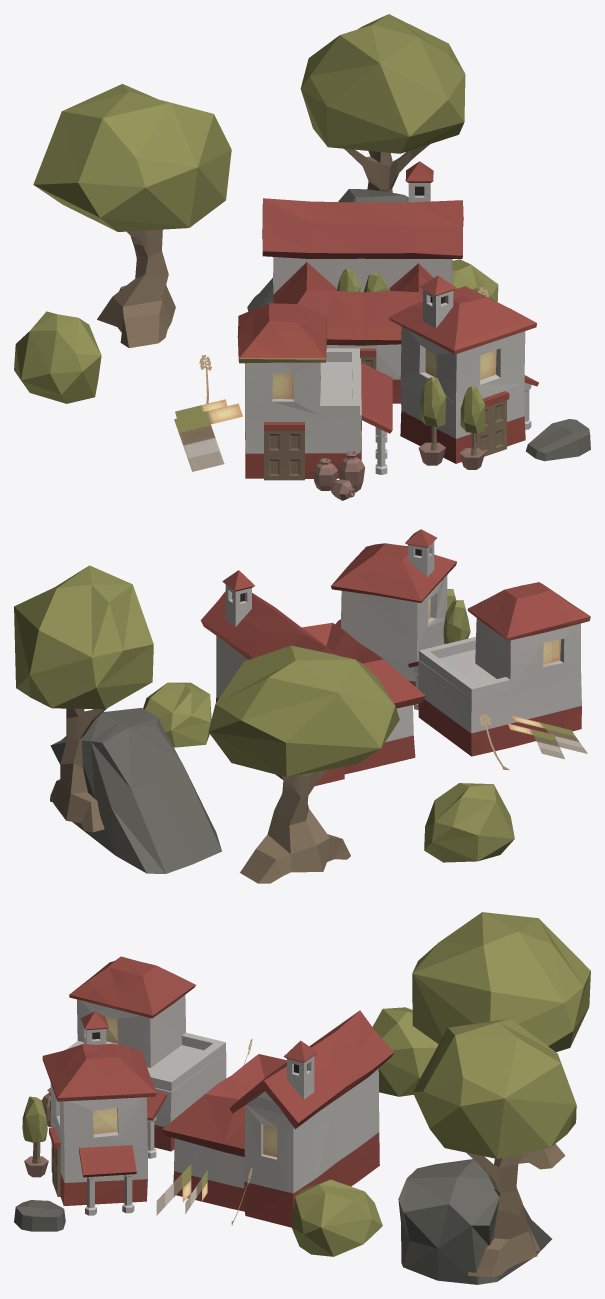
The model's file is townPlains2.fbx.
The picture shows the model from 3 angles, top to bottom: view 1: azimuth 30°, elevation 25°; view 2: azimuth 150°, elevation 25°; view 3: azimuth 270°, elevation 25°; orthographic projection. The views are drawn at different scales.
Parts seen in each view (by area): view 1: townPlains2; view 2: townPlains2; view 3: townPlains2.
Part boxes in pixels (x1,y1,x2,y2): townPlains2: (14,14,590,500); townPlains2: (14,529,590,883); townPlains2: (14,912,590,1284).
Bounding box in the file's own units: 6.16 × 3.31 × 6.67.
Materials: 2 (2 with a texture image).
